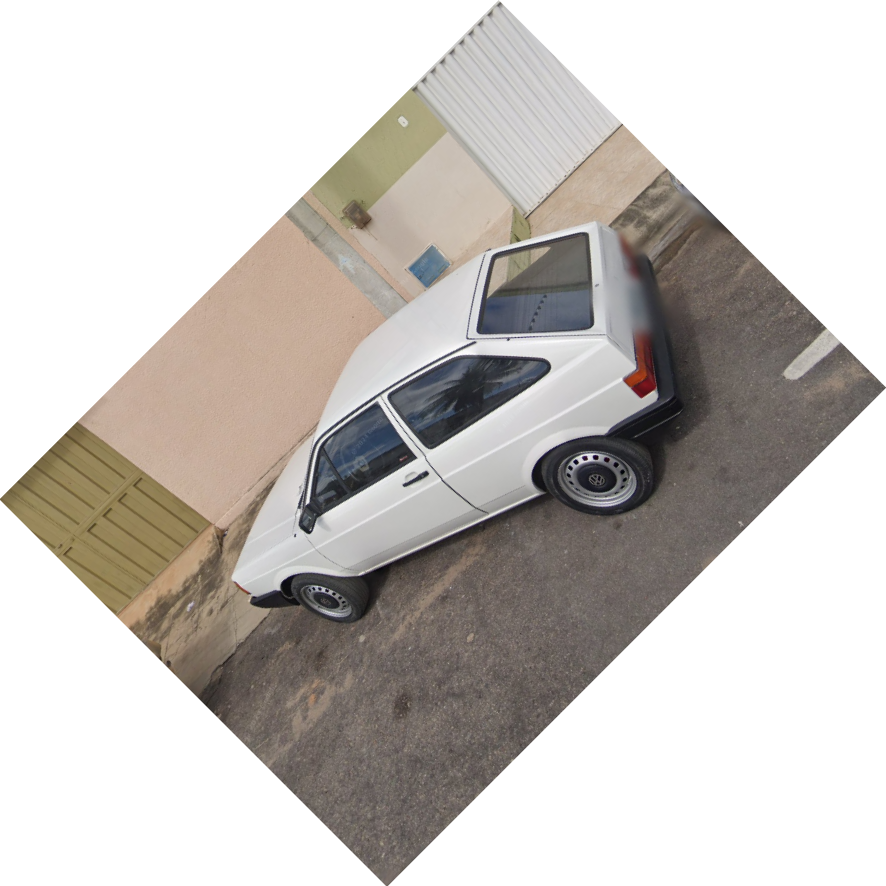car: (224, 215, 691, 628)
